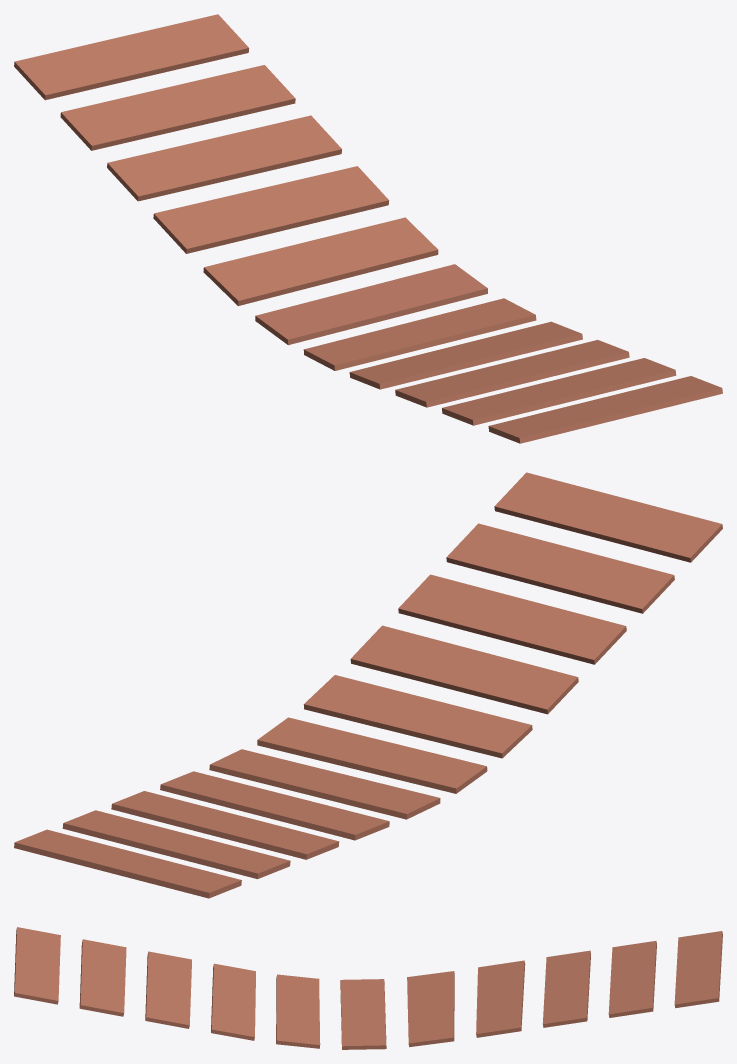
File: bridge.fbx
3 views of the same model, one above another, from view 1: azimuth 30°, elevation 25°; view 2: azimuth 150°, elevation 25°; view 3: azimuth 270°, elevation 25° (orthographic). The views are drawn at different scales.
Visible parts, largest first — view 1: Cube.002; view 2: Cube.002; view 3: Cube.002.
Part boxes in pixels (x1=…): Cube.002: x1=14, y1=14, x2=722, y2=443; Cube.002: x1=14, y1=472, x2=722, y2=898; Cube.002: x1=14, y1=927, x2=722, y2=1049.
Size of the model in its own units: 745 by 281 by 3179.
